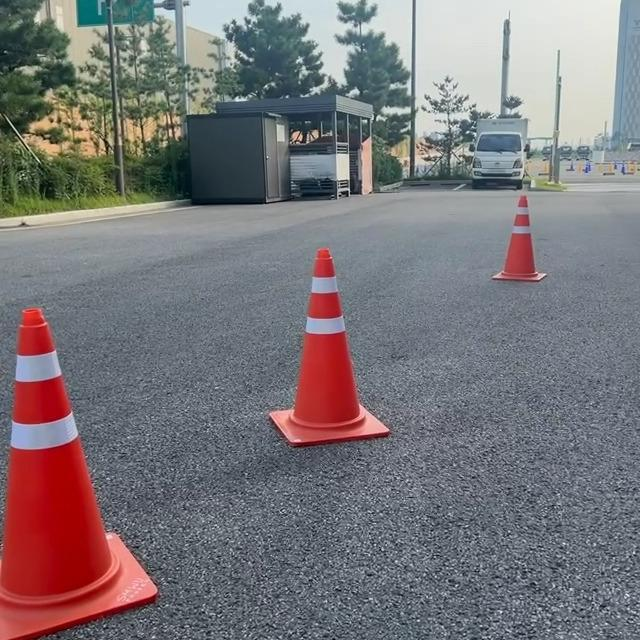fallen_object: (0, 292, 194, 627), (246, 210, 426, 518), (492, 187, 625, 378)
